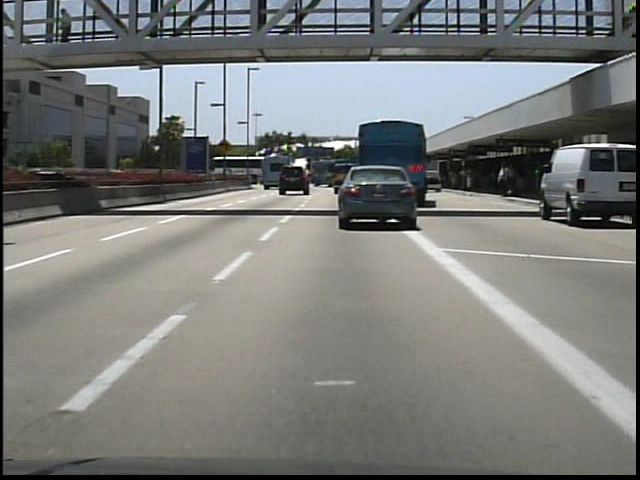car: (535, 142, 640, 226), (325, 162, 426, 234), (275, 163, 312, 198)
strada: (3, 234, 577, 463)
